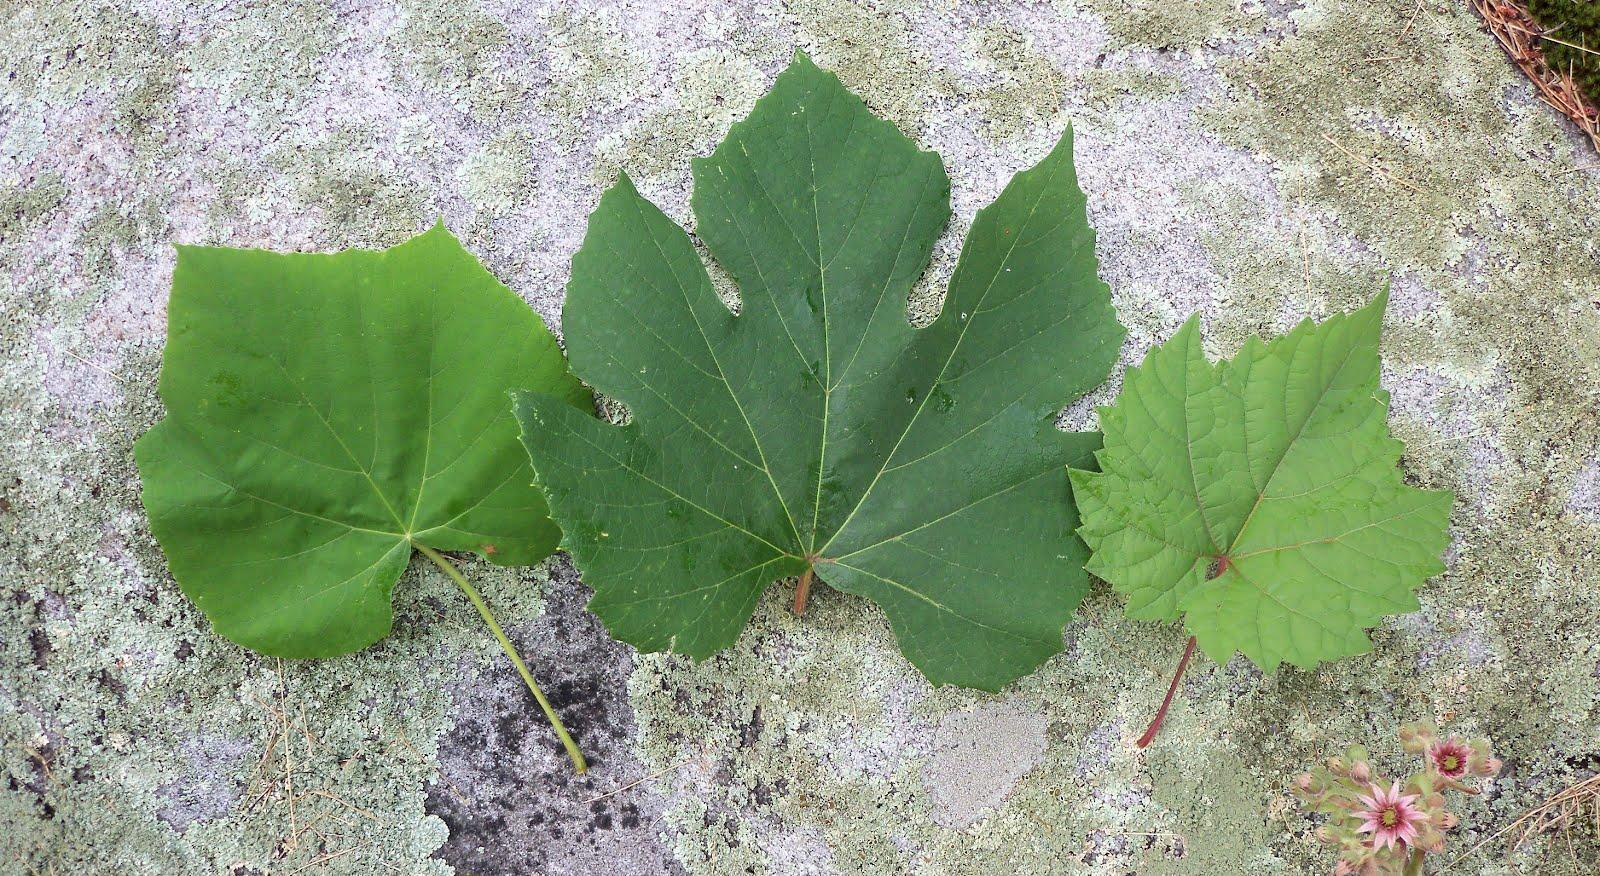grape leaf black rot: (512, 51, 1186, 683), (110, 182, 591, 667), (1059, 278, 1512, 684)
